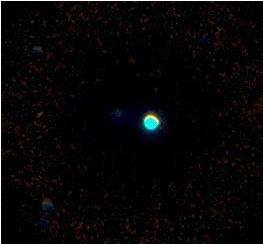star: (23, 98, 53, 128)
